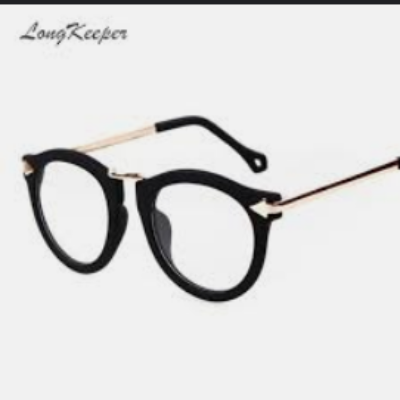glasses: (19, 115, 400, 305)
